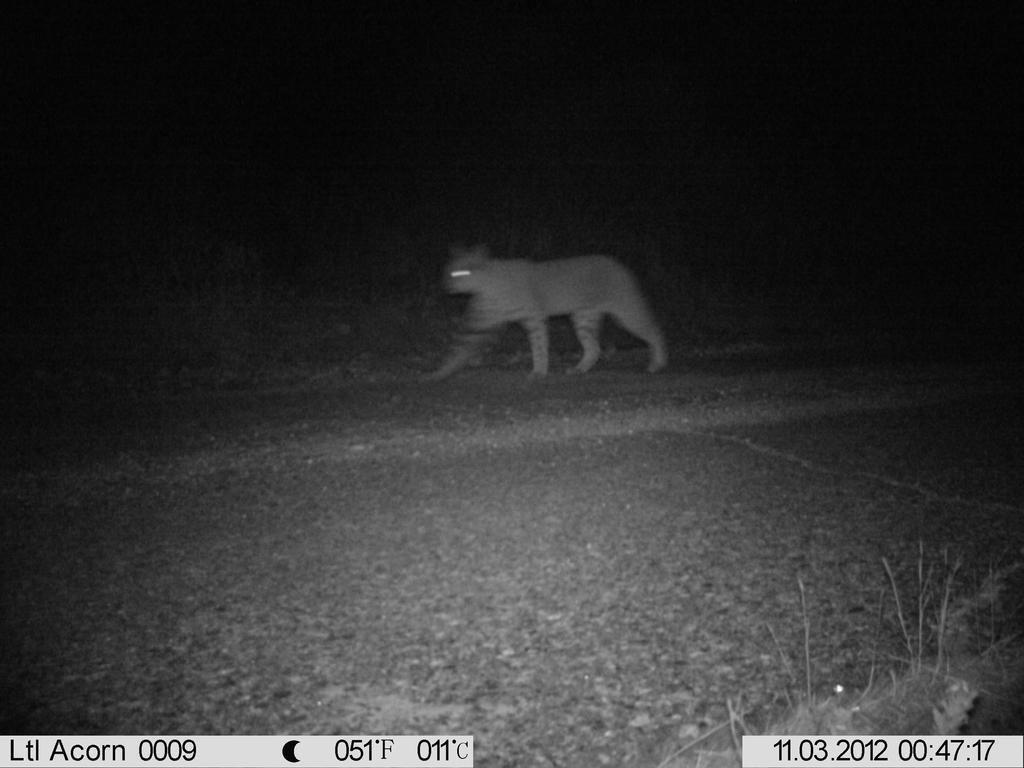bobcat: (420, 236, 674, 400)
